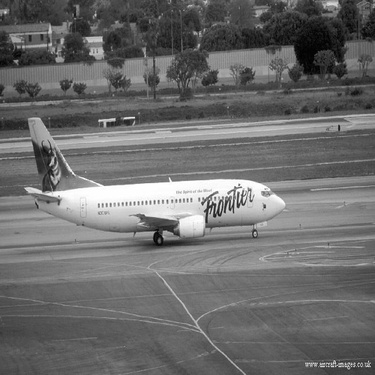airplane: (17, 102, 291, 253)
